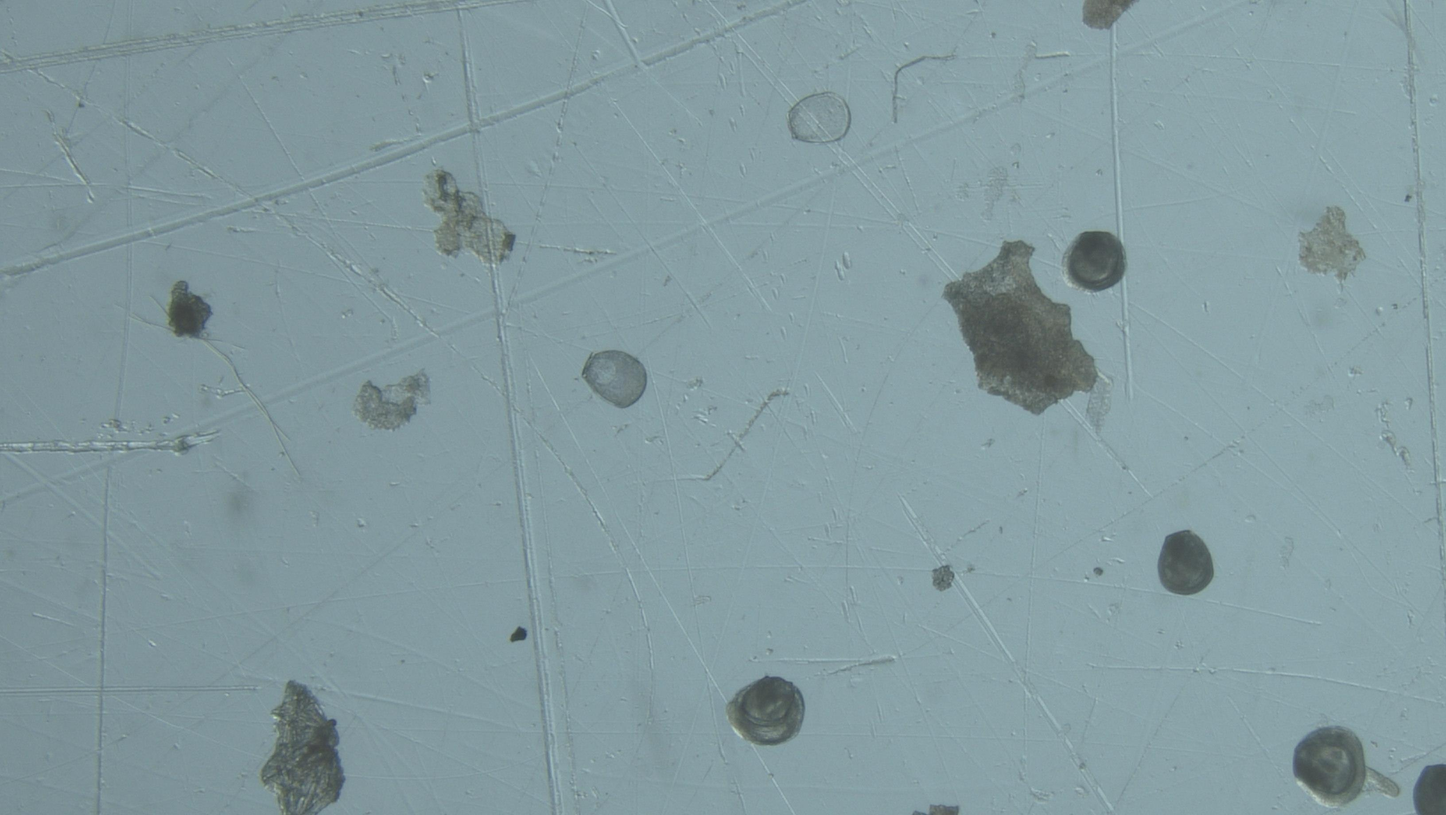dead: (581, 350, 649, 409), (788, 92, 851, 144)
live: (1293, 726, 1400, 807), (726, 676, 805, 746), (1064, 231, 1127, 293), (1158, 531, 1214, 596)
